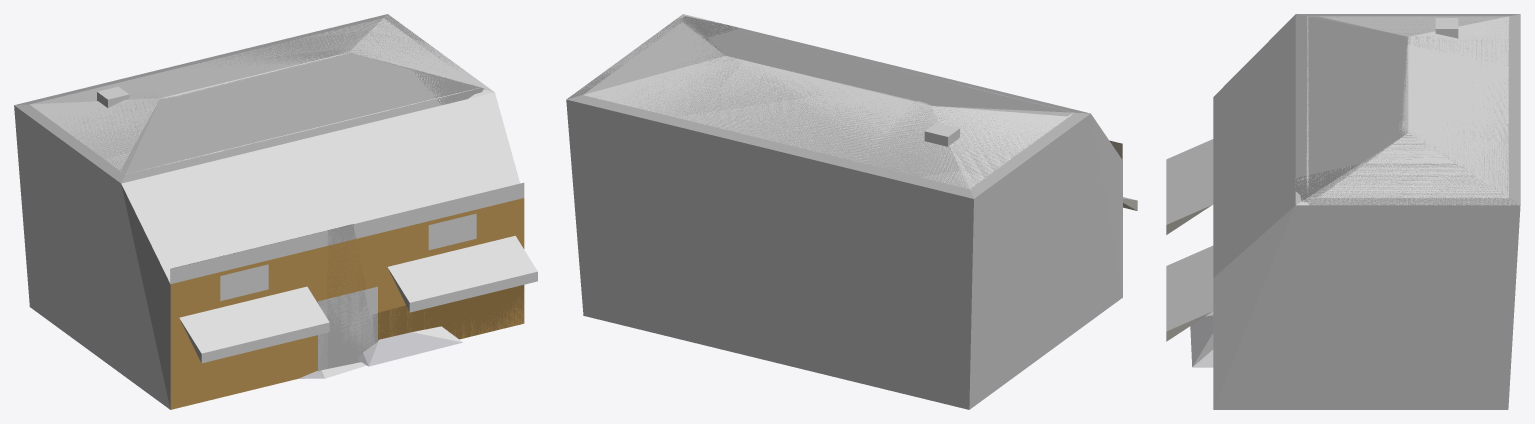
The model's file is bld_shop_b.glb.
3 views of the same model, side by side, from view 1: azimuth 30°, elevation 25°; view 2: azimuth 150°, elevation 25°; view 3: azimuth 270°, elevation 25° (orthographic). The views are drawn at different scales.
Visible parts, largest first — view 1: damaged, intact, chunk_00, chunk_03, chunk_01, chunk_02, chunk_04, chunk_05, rubble; view 2: chunk_03, chunk_04, damaged, chunk_05, chunk_00, intact; view 3: chunk_05, damaged, chunk_02, chunk_04, chunk_01, intact, chunk_03, chunk_00, rubble.
Boxes of the visible parts, box(x1,y1,x2,y2) form: damaged: box(14, 14, 524, 408); intact: box(170, 14, 537, 407); chunk_00: box(110, 150, 268, 409); chunk_03: box(14, 80, 176, 372); chunk_01: box(223, 112, 418, 385); chunk_02: box(379, 88, 524, 334); chunk_04: box(128, 42, 331, 95); chunk_05: box(285, 18, 452, 73); rubble: box(298, 326, 462, 378); chunk_03: box(856, 101, 1078, 409); chunk_04: box(686, 60, 916, 383); damaged: box(566, 16, 1137, 210); chunk_05: box(566, 22, 744, 342); chunk_00: box(967, 86, 1122, 337); intact: box(569, 14, 1122, 156); chunk_05: box(1318, 124, 1520, 409); damaged: box(1166, 14, 1520, 234); chunk_02: box(1213, 146, 1318, 409); chunk_04: box(1399, 44, 1508, 146); chunk_01: box(1213, 67, 1308, 226); intact: box(1166, 135, 1519, 341); chunk_03: box(1319, 16, 1509, 66); chunk_00: box(1213, 14, 1317, 146); rubble: box(1190, 311, 1213, 367).
Bounding box in the file's own units: 14 × 8 × 10.95.
